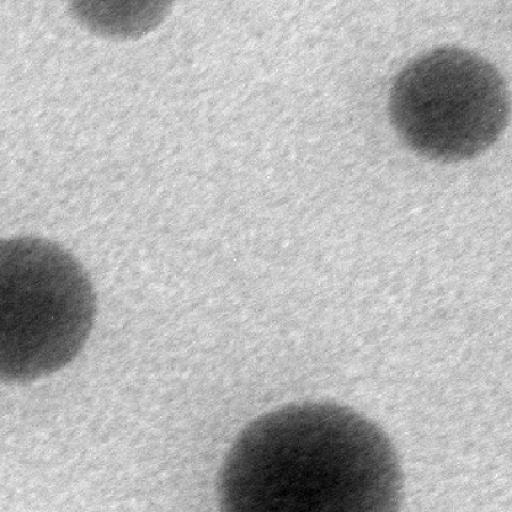Nanoparticles: (215, 390, 407, 512), (387, 40, 512, 165), (0, 230, 98, 386), (64, 0, 178, 44)
